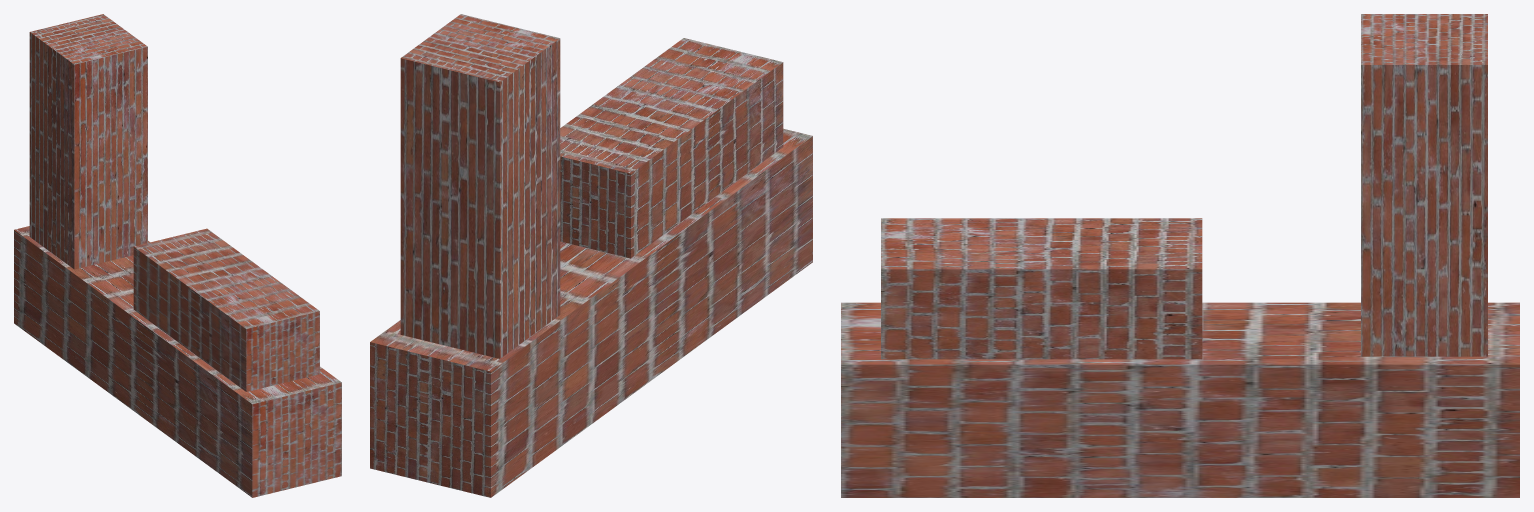
File: house.obj
The picture shows the model from 3 angles, left to right: view 1: azimuth 30°, elevation 25°; view 2: azimuth 150°, elevation 25°; view 3: azimuth 270°, elevation 25°; orthographic projection. The views are drawn at different scales.
Parts seen in each view (by area): view 1: Cube, Cube.002, Cube.001; view 2: Cube, Cube.002, Cube.001; view 3: Cube, Cube.001, Cube.002.
Boxes of the visible parts, <box> form: Cube: <box>14,226,341,497</box>; Cube.002: <box>29,14,147,269</box>; Cube.001: <box>133,228,319,391</box>; Cube: <box>370,128,812,497</box>; Cube.002: <box>400,14,560,358</box>; Cube.001: <box>560,38,783,258</box>; Cube: <box>841,302,1519,497</box>; Cube.001: <box>881,218,1202,359</box>; Cube.002: <box>1361,14,1487,356</box>.
Size of the model in its own units: 2 by 6.38 by 9.23.
